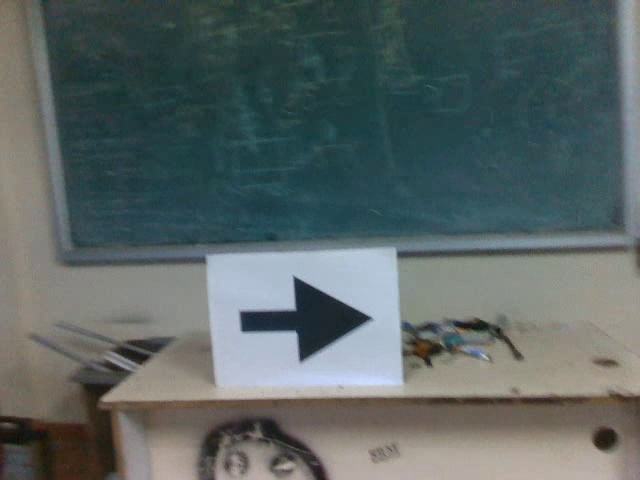Right: (236, 267, 378, 369)
